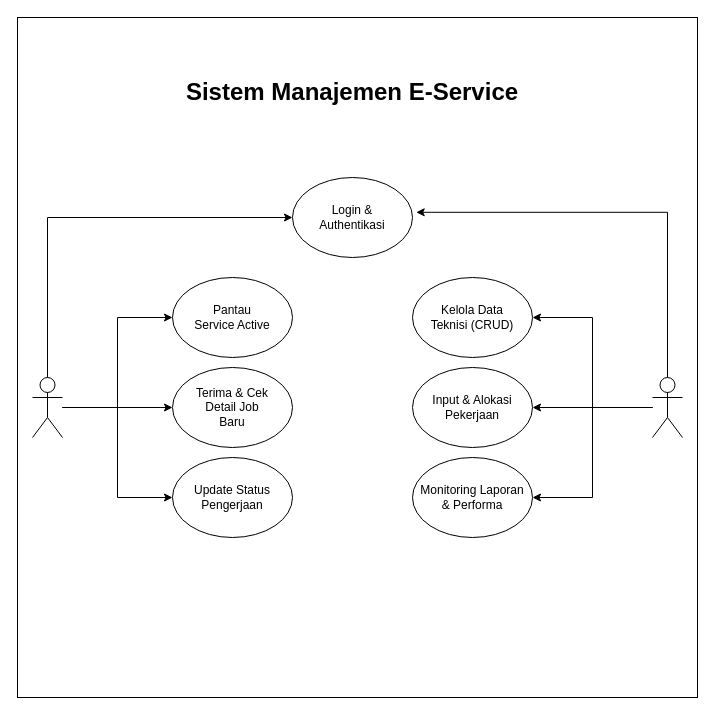
Some shapes in this 715 by 715 pixel diagram are drawn without their labels. Each missing label, with the centre of its shape:
Admin: [667,407]
Tenisi: [47,407]
